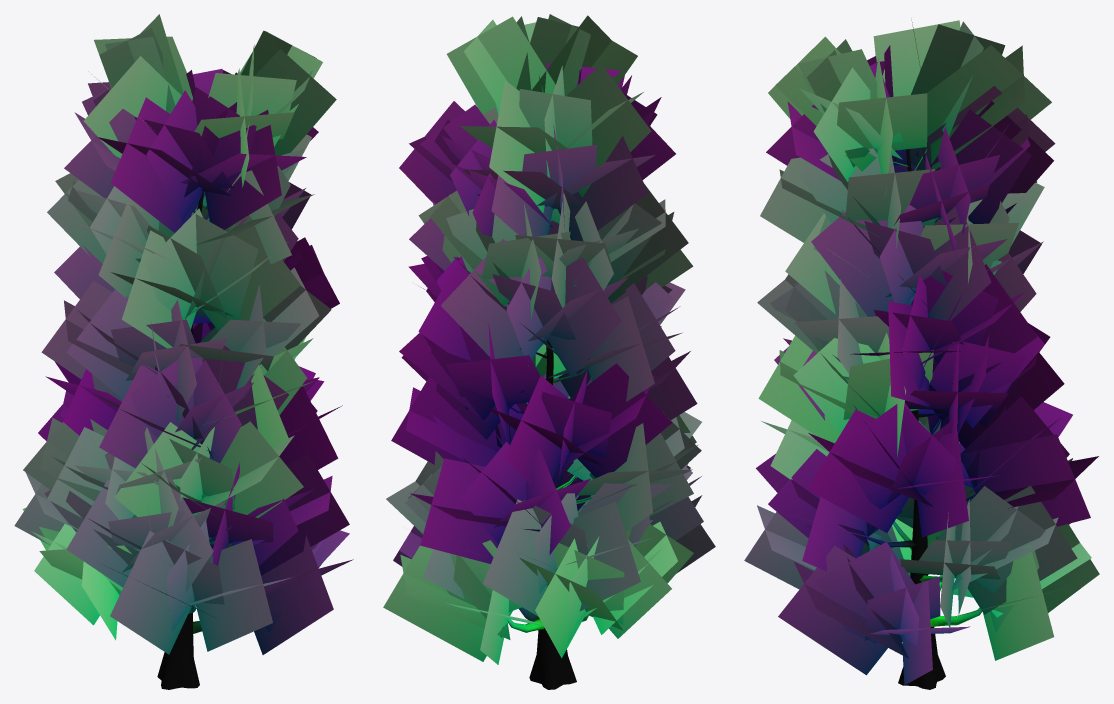
File: Tree_5_5.fbx
3 renders of one model, left to right at view 1: azimuth 30°, elevation 25°; view 2: azimuth 150°, elevation 25°; view 3: azimuth 270°, elevation 25°, orthographic. The views are drawn at different scales.
Visible parts, largest first — view 1: _5; view 2: _5; view 3: _5.
Part boxes in pixels (x1,y1,x2,y2): _5: [14, 14, 353, 689]; _5: [383, 14, 715, 689]; _5: [744, 20, 1099, 689].
Size of the model in its own units: 1007 by 2082 by 1024.
